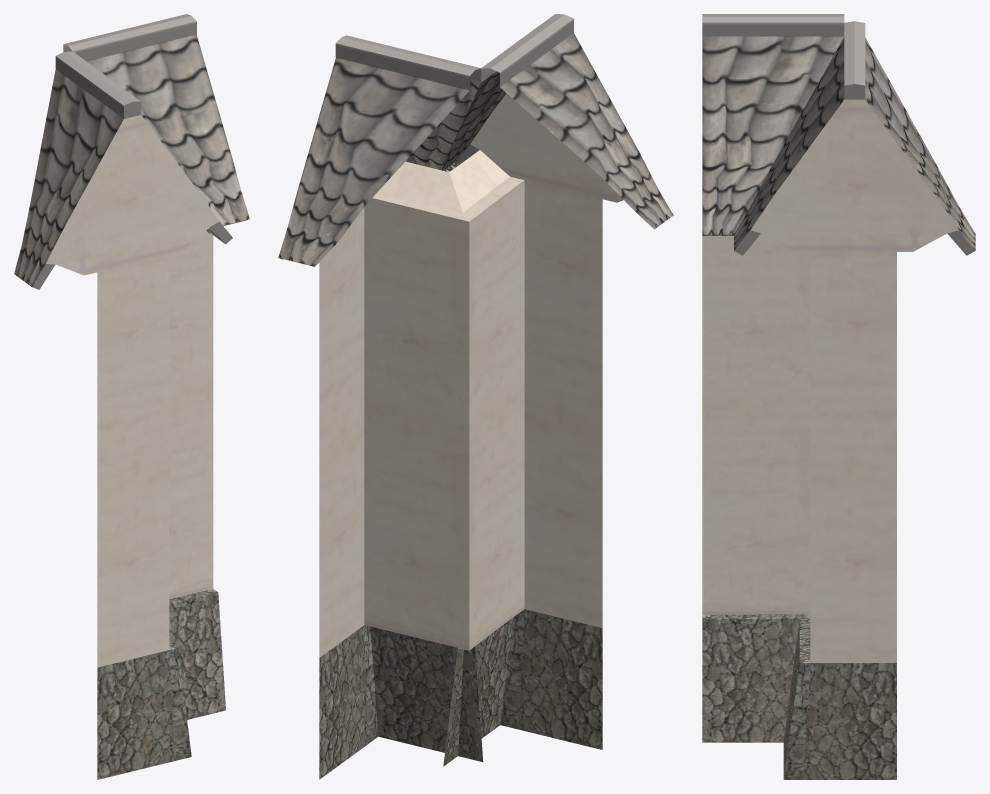
File: wall_corner.fbx
3 views of the same model, side by side, from view 1: azimuth 30°, elevation 25°; view 2: azimuth 150°, elevation 25°; view 3: azimuth 270°, elevation 25° (orthographic). The views are drawn at different scales.
Visible parts, largest first — view 1: wall_kado; view 2: wall_kado; view 3: wall_kado.
Part boxes in pixels (x1,y1,x2,y2): wall_kado: (14, 14, 249, 779); wall_kado: (278, 14, 673, 779); wall_kado: (702, 14, 975, 779).
Bounding box in the file's own units: 128 × 352 × 125.
Materials: 1 (1 with a texture image).
